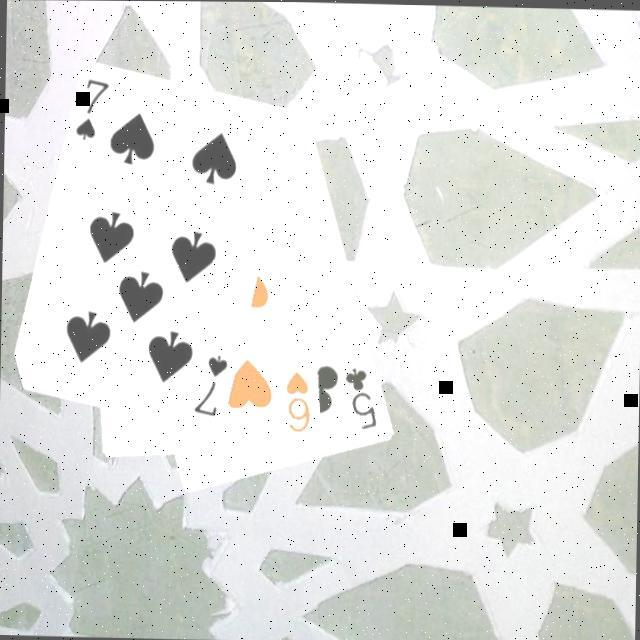5C: (338, 365, 379, 434)
6H: (280, 369, 313, 438)
7S: (189, 353, 230, 422), (70, 76, 111, 145)
